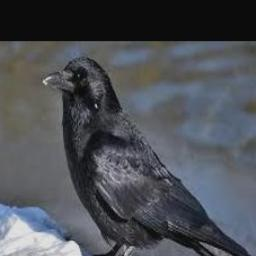Crow: (43, 56, 256, 256)
